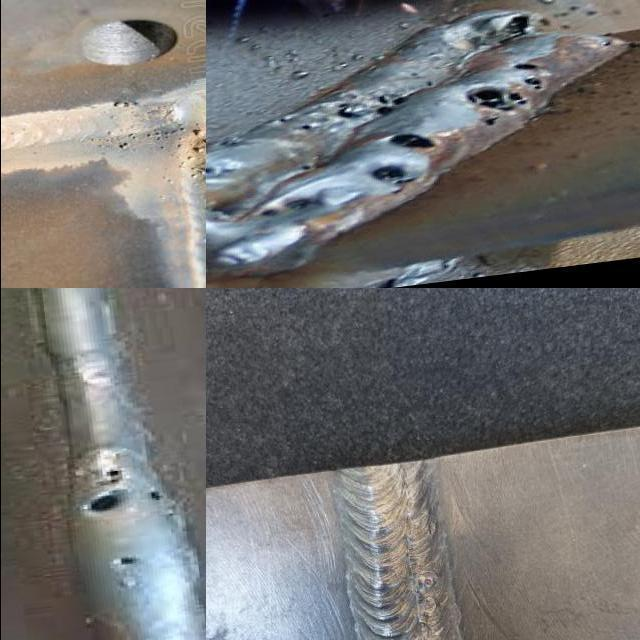defect: (464, 56, 550, 132), (145, 124, 205, 189), (463, 11, 536, 49), (80, 467, 125, 517), (366, 163, 422, 194), (383, 131, 449, 153), (371, 92, 411, 117), (139, 484, 177, 506), (109, 550, 142, 570), (329, 101, 363, 120), (103, 98, 147, 111), (281, 195, 316, 210), (115, 131, 140, 152), (414, 596, 440, 614), (415, 572, 440, 589), (216, 138, 241, 148), (257, 208, 278, 218), (595, 39, 615, 47), (423, 79, 439, 89), (205, 164, 219, 175), (409, 72, 427, 80), (298, 164, 312, 172), (298, 124, 315, 130), (278, 118, 288, 122)
